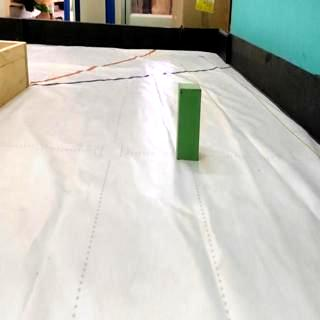greenbox: (178, 82, 202, 160)
